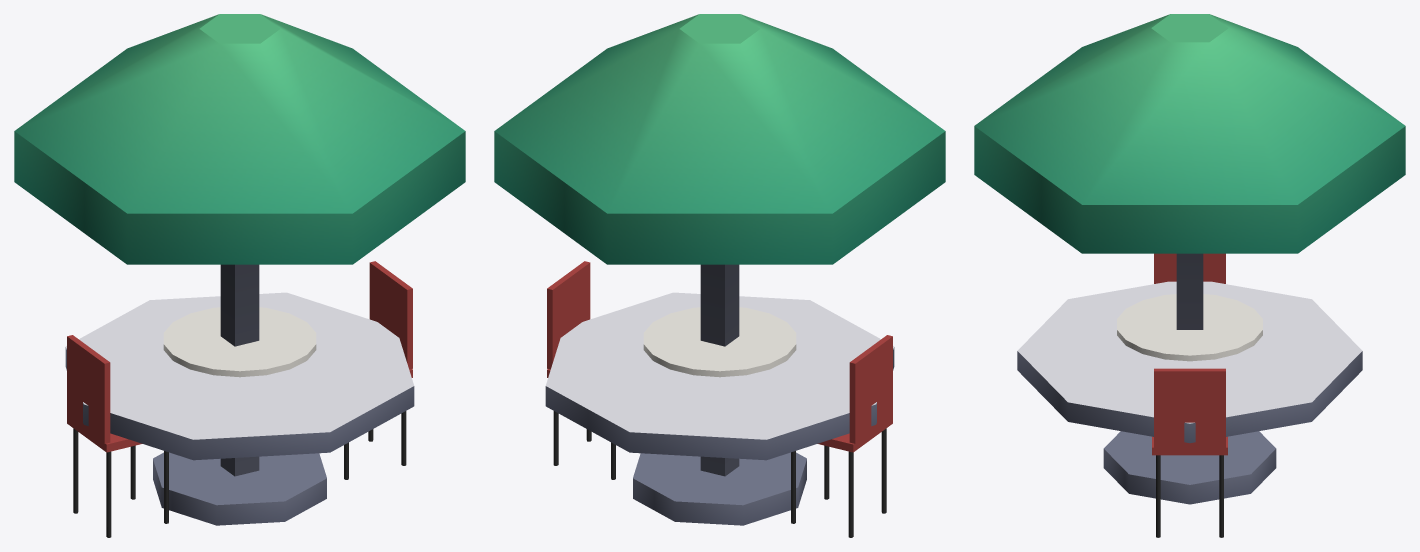
Rendered from cafe_table_parasol.glb.
3 views of the same model, side by side, from view 1: azimuth 30°, elevation 25°; view 2: azimuth 150°, elevation 25°; view 3: azimuth 270°, elevation 25° (orthographic). The views are drawn at different scales.
Parts seen in each view (by area): view 1: detail-parasol-a, cafe_table; view 2: detail-parasol-a, cafe_table; view 3: detail-parasol-a, cafe_table.
Boxes of the visible parts, x1,y1,x2,y2 form: detail-parasol-a: (14,14,465,525); cafe_table: (67,261,412,537); detail-parasol-a: (494,14,945,525); cafe_table: (547,261,892,537); detail-parasol-a: (974,14,1405,504); cafe_table: (1117,253,1262,537).
Bounding box in the file's own units: 1.77 × 2.3 × 2.04.
Materials: 4 (1 with a texture image).
